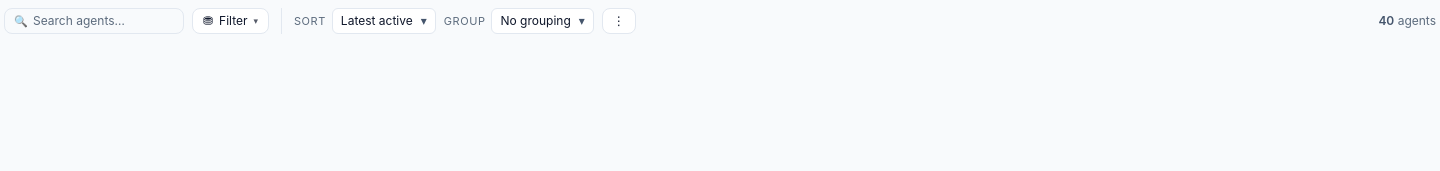
Scenario: dashboardToolbar › moves the density toggle into the view overflow menu
Click the button named "More view options": coordinates (619, 21) [602,8,636,34]
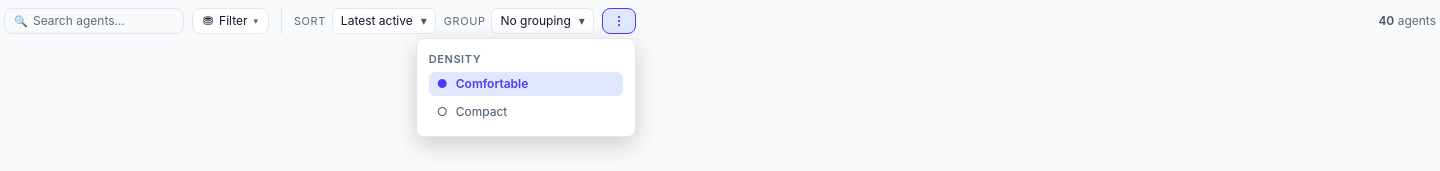
Check: the button with test id "layout-list" is shown
Click the button with test id "layout-list": coordinates (526, 112) [429,100,623,124]
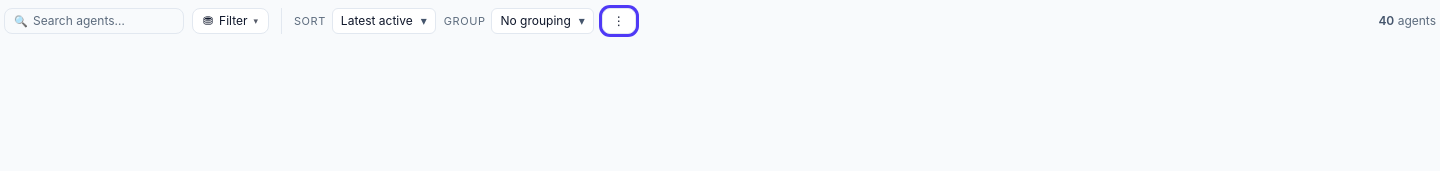
Check: the button with test id "layout-list" is gone
